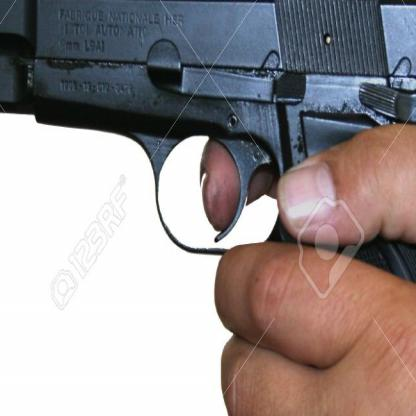gun: (0, 0, 415, 327)
